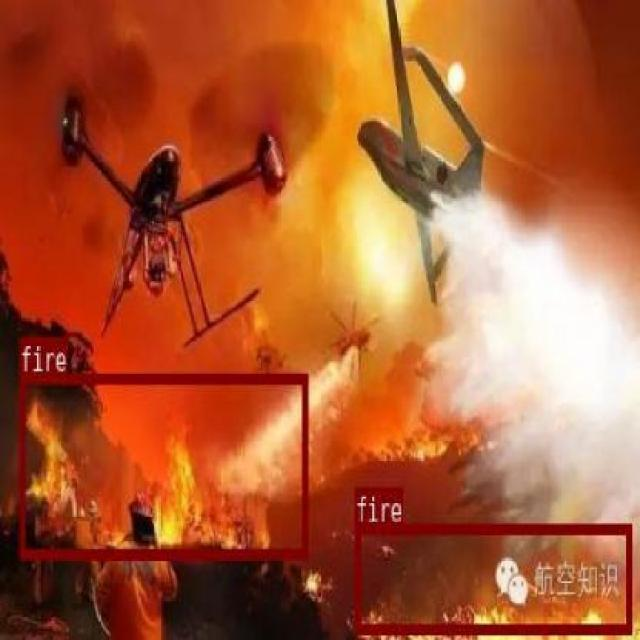Fire: (18, 373, 306, 556), (354, 522, 630, 632)
